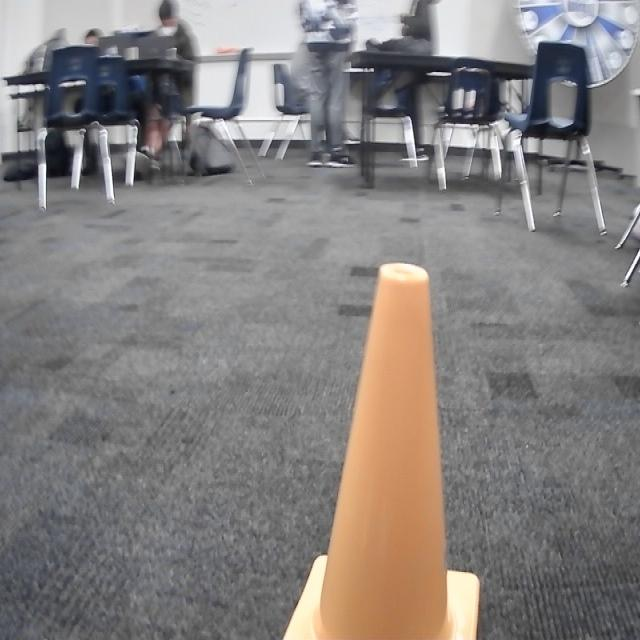cone: (284, 257, 483, 640)
